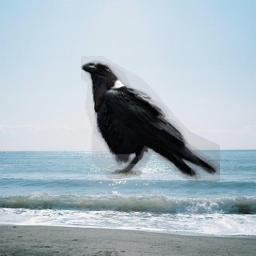Crow: (81, 56, 220, 182)
